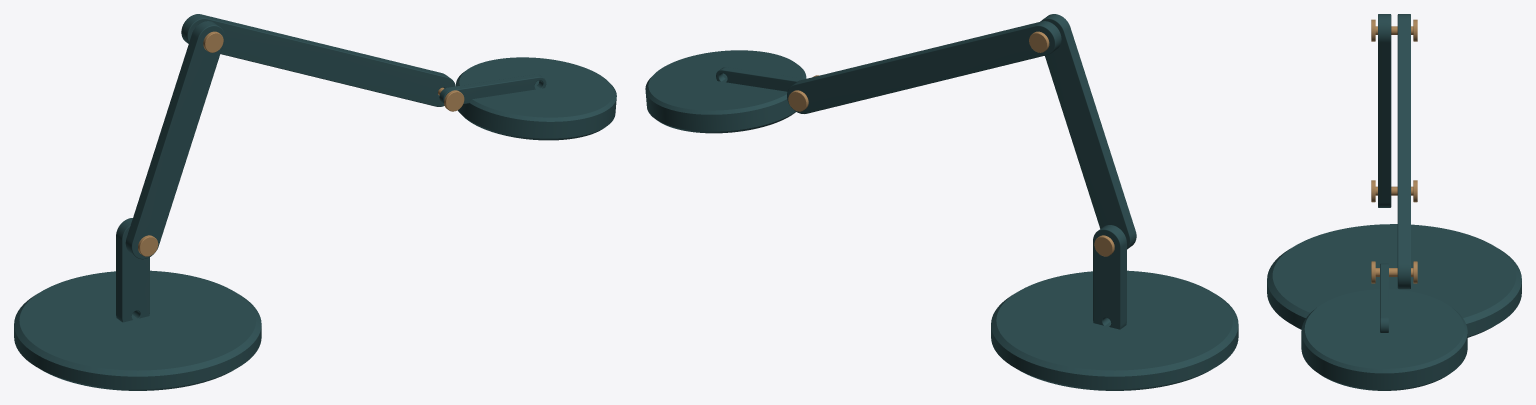
3 views of the same model, side by side, from view 1: azimuth 30°, elevation 25°; view 2: azimuth 150°, elevation 25°; view 3: azimuth 270°, elevation 25° (orthographic). The views are drawn at different scales.
Visible parts, largest first — view 1: Base body, Head housing, Upper arm, Lower arm, Fixed upright, Head neck; view 2: Base body, Head housing, Upper arm, Lower arm, Fixed upright, Head neck; view 3: Base body, Head housing, Upper arm, Lower arm, Head neck.
Part boxes in pixels (x1=…): Base body: x1=14, y1=270, x2=261, y2=390; Head housing: x1=456, y1=57, x2=616, y2=140; Upper arm: x1=181, y1=14, x2=455, y2=106; Lower arm: x1=125, y1=21, x2=224, y2=259; Fixed upright: x1=116, y1=218, x2=149, y2=322; Head neck: x1=439, y1=74, x2=546, y2=104; Base body: x1=991, y1=270, x2=1238, y2=390; Head housing: x1=645, y1=50, x2=806, y2=133; Upper arm: x1=787, y1=21, x2=1061, y2=113; Lower arm: x1=1040, y1=14, x2=1136, y2=249; Fixed upright: x1=1093, y1=225, x2=1126, y2=329; Head neck: x1=716, y1=67, x2=804, y2=91; Base body: x1=1267, y1=224, x2=1521, y2=337; Head housing: x1=1301, y1=289, x2=1467, y2=390; Upper arm: x1=1397, y1=14, x2=1410, y2=289; Lower arm: x1=1378, y1=14, x2=1391, y2=207; Head neck: x1=1380, y1=263, x2=1388, y2=332.
Size of the model in its own units: 0.6122 by 0.3176 by 0.23.
